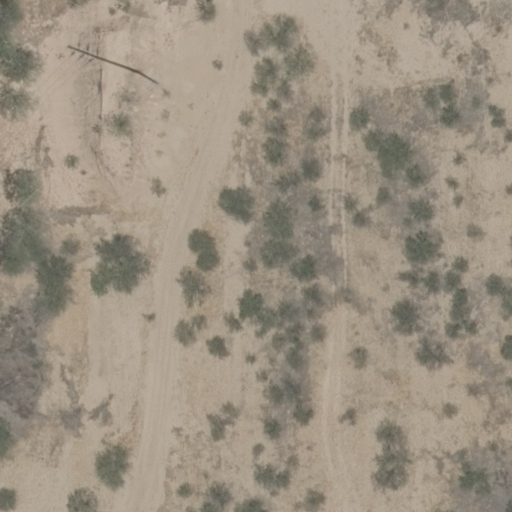DT: (67, 40, 131, 67)
